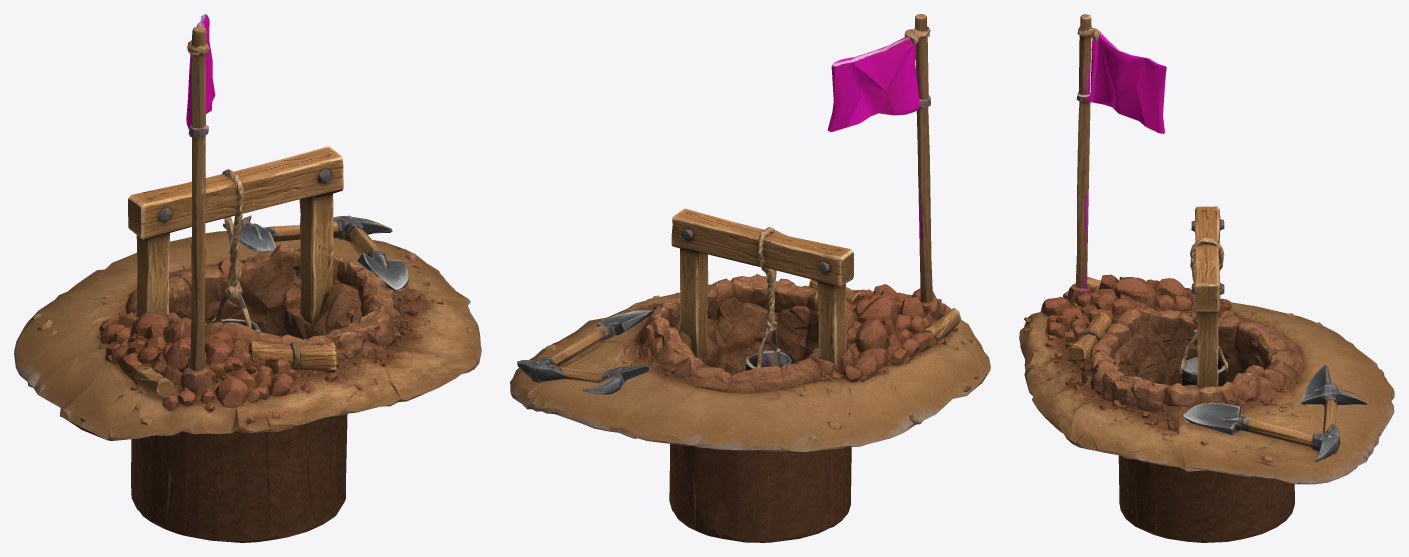
File: clay_mine.glb
The picture shows the model from 3 angles, left to right: view 1: azimuth 30°, elevation 25°; view 2: azimuth 150°, elevation 25°; view 3: azimuth 270°, elevation 25°; orthographic projection. The views are drawn at different scales.
Visible parts, largest first — view 1: Mesh_0; view 2: Mesh_0; view 3: Mesh_0.
Part boxes in pixels (<box>): Mesh_0: <box>14,14,481,542</box>; Mesh_0: <box>510,14,990,542</box>; Mesh_0: <box>1019,14,1394,542</box>.
Size of the model in its own units: 1.61 by 1.9 by 1.45.
1 material, 1 textured.
